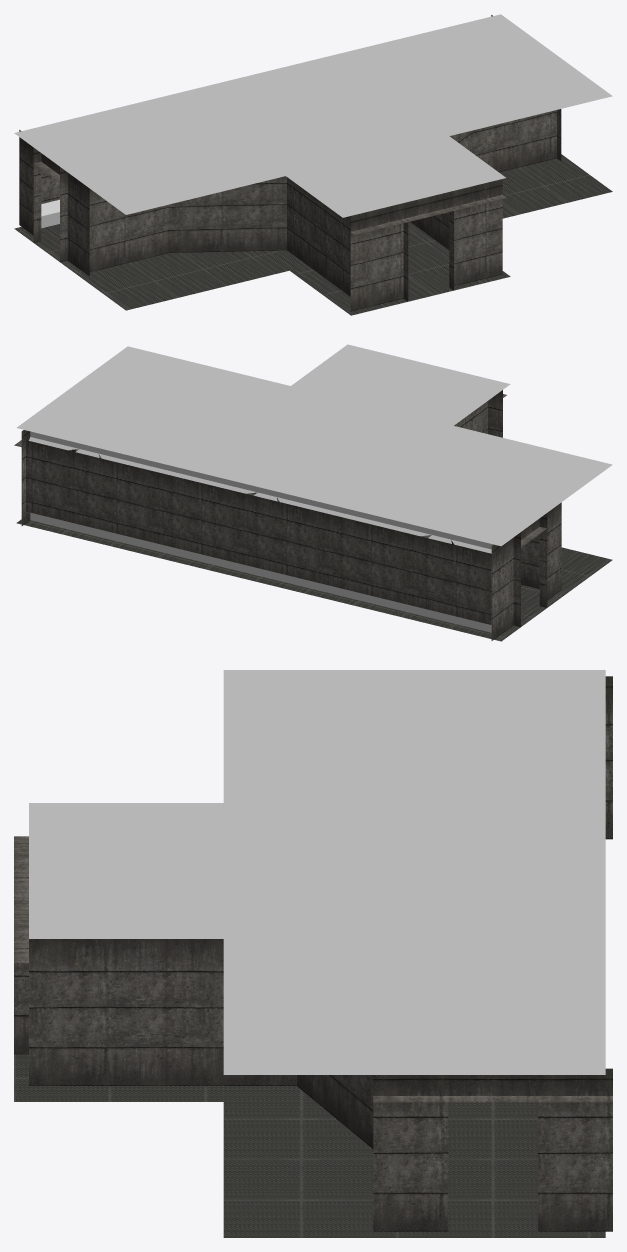
The model's file is HC_room3.gltf.
The picture shows the model from 3 angles, top to bottom: view 1: azimuth 30°, elevation 25°; view 2: azimuth 150°, elevation 25°; view 3: azimuth 270°, elevation 25°; orthographic projection. The views are drawn at different scales.
Visible parts, largest first — view 1: HC_room3; view 2: HC_room3; view 3: HC_room3.
Part boxes in pixels (x1,y1,x2,y2): HC_room3: (14,14,612,315); HC_room3: (14,344,612,641); HC_room3: (14,670,612,1237).
Size of the model in its own units: 20.48 by 3.84 by 12.8.
